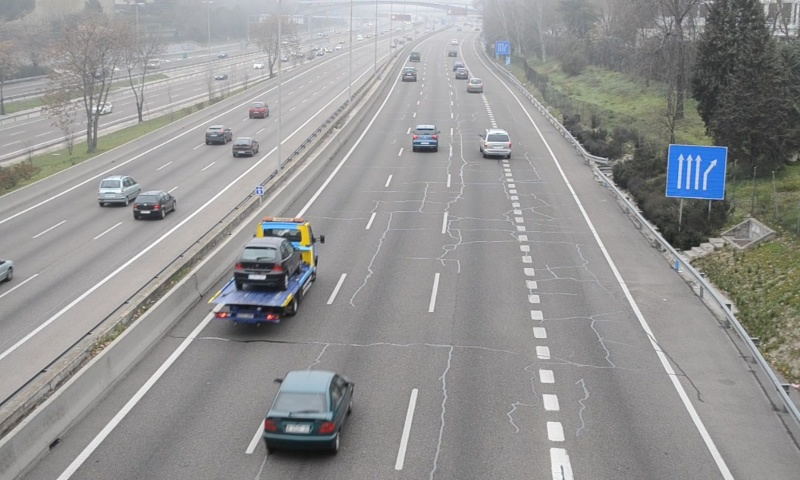car: (263, 370, 352, 448), (481, 128, 512, 157), (412, 124, 439, 151), (466, 76, 484, 94), (402, 67, 416, 82)
small-truck: (210, 218, 318, 322)
